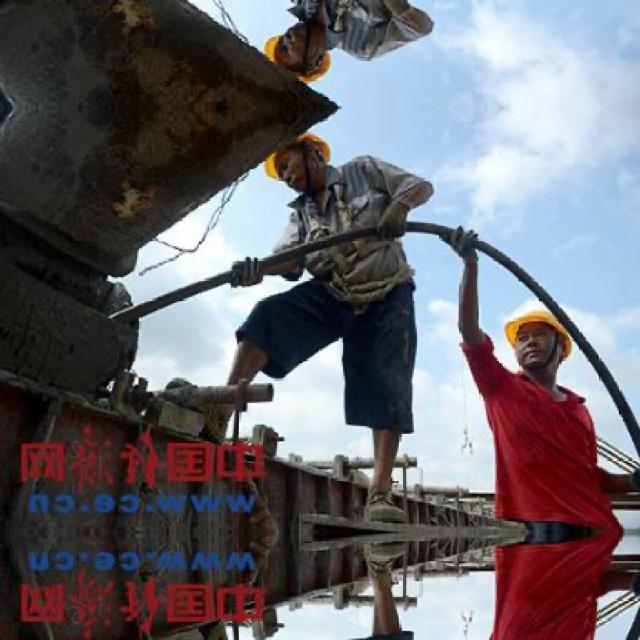con casco: (251, 108, 397, 222), (462, 283, 584, 400)
